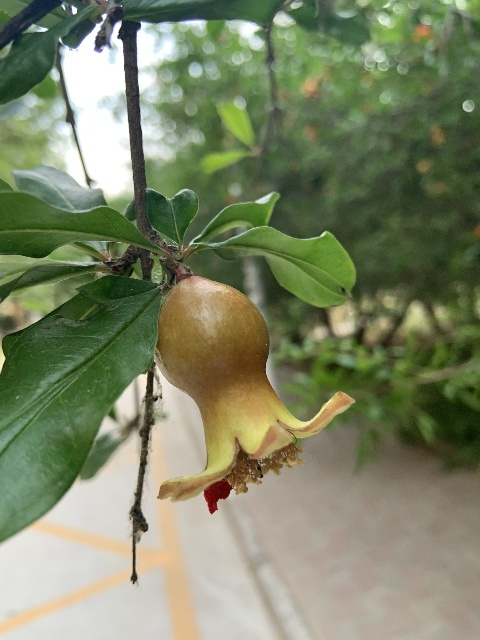early-fruit: (153, 276, 354, 514)
